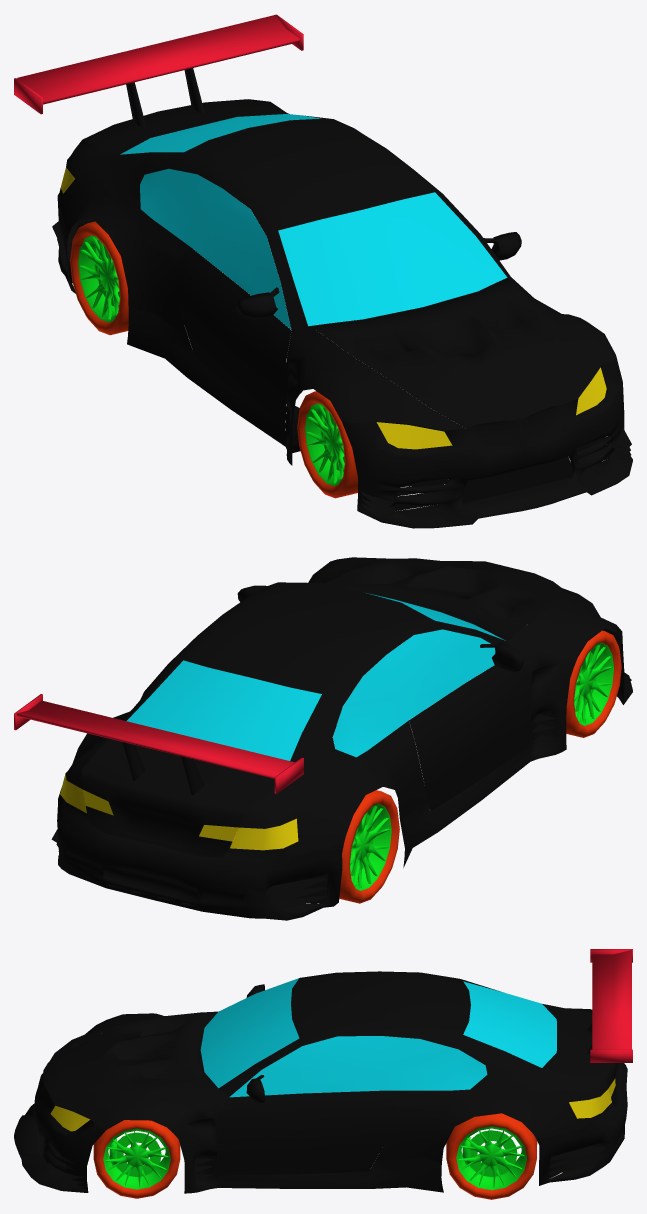
Rendered from Car.fbx.
3 renders of one model, top to bottom at view 1: azimuth 30°, elevation 25°; view 2: azimuth 150°, elevation 25°; view 3: azimuth 270°, elevation 25°, orthographic. The views are drawn at different scales.
Parts seen in each view (by area): view 1: car21, car4, car9; view 2: car21, car4, car9; view 3: car21, car73, car47.
Part boxes in pixels (left/top/right/bottom): car21: left=14, top=14, right=632, bottom=528; car4: left=70, top=221, right=128, bottom=335; car9: left=297, top=391, right=357, bottom=498; car21: left=14, top=557, right=632, bottom=920; car4: left=339, top=790, right=399, bottom=903; car9: left=566, top=630, right=621, bottom=737; car21: left=14, top=949, right=632, bottom=1193; car73: left=446, top=1113, right=537, bottom=1199; car47: left=93, top=1120, right=180, bottom=1198.
Bounding box in the file's own units: 616 × 399 × 1477.
